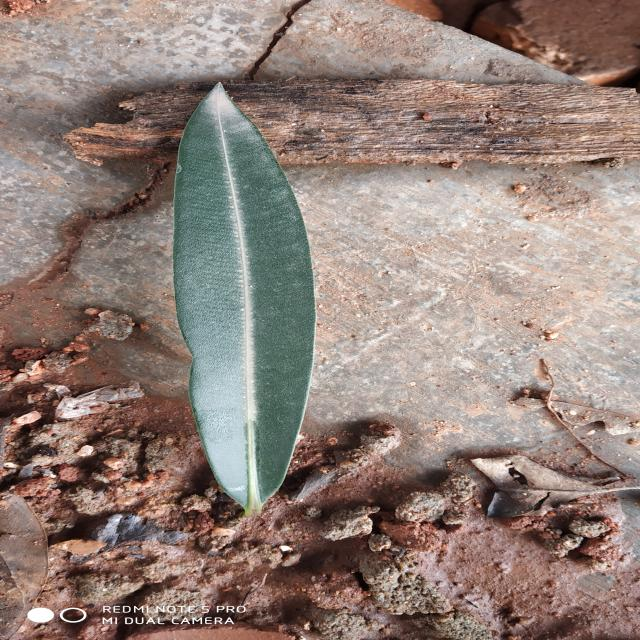ganigale: (173, 82, 316, 515)
